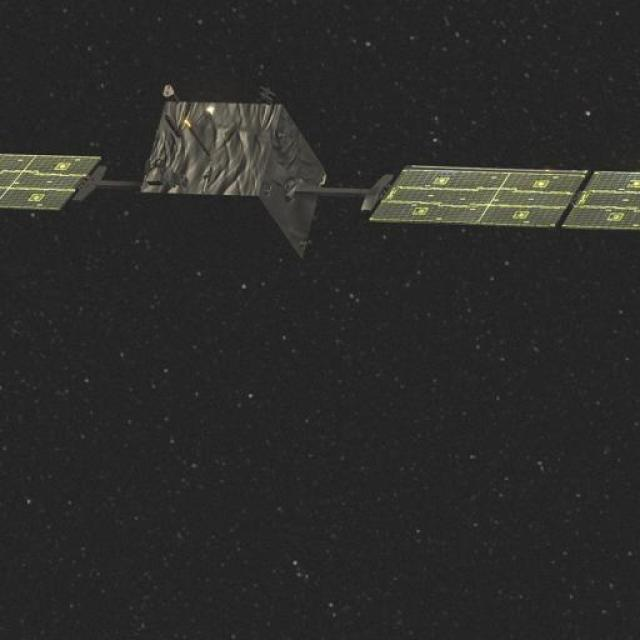smart_1: (0, 88, 544, 265)
